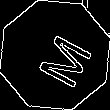M_NW: (22, 23, 88, 87)
